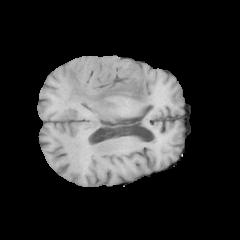glioma: (65, 66, 154, 122)
